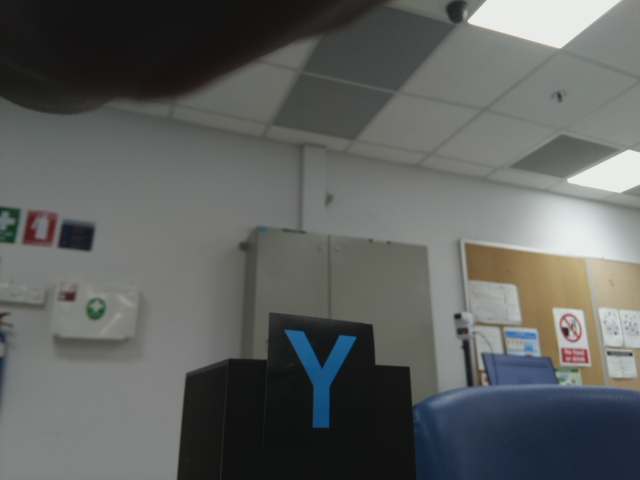y: (277, 324, 362, 437)
